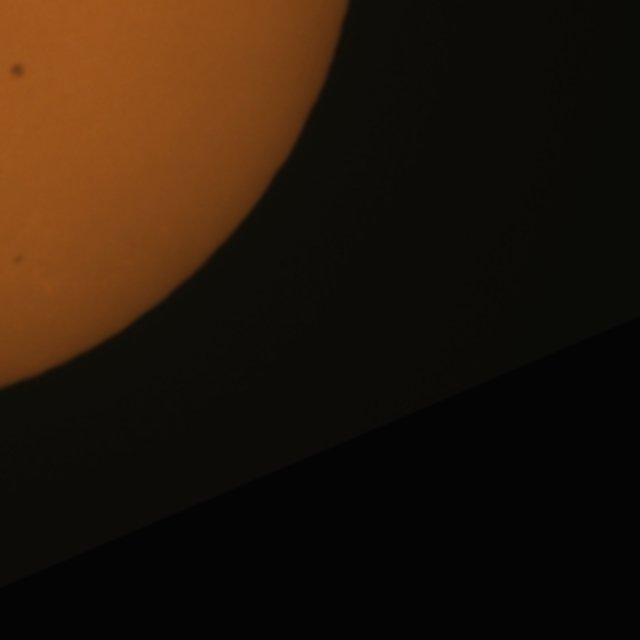sunspot: (6, 60, 28, 82), (10, 253, 24, 267)
